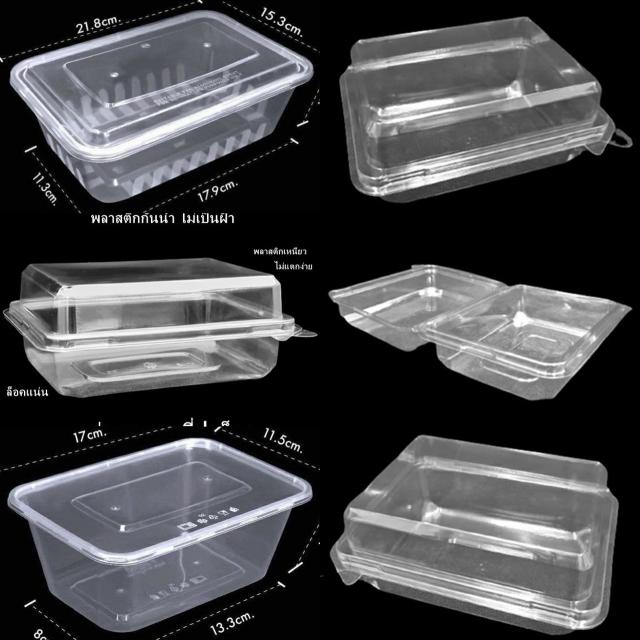Single-Use-Plastic: (8, 439, 311, 632), (10, 10, 313, 202), (330, 436, 618, 633), (340, 18, 614, 202), (5, 259, 313, 398), (329, 265, 629, 399)
